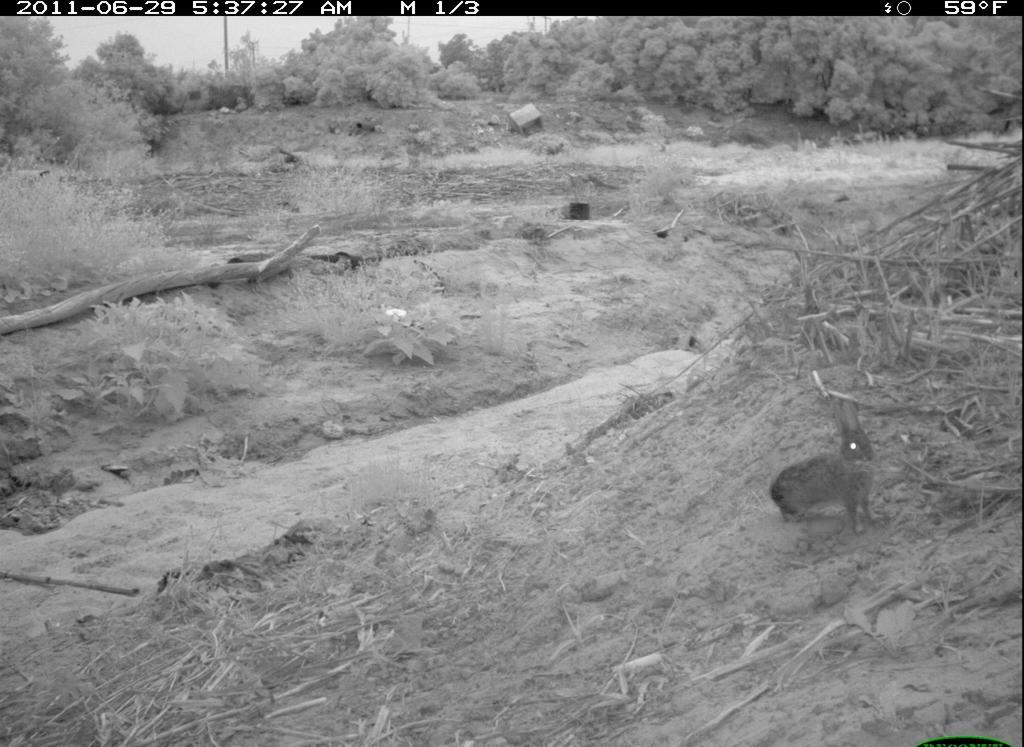rabbit: (761, 391, 893, 542)
